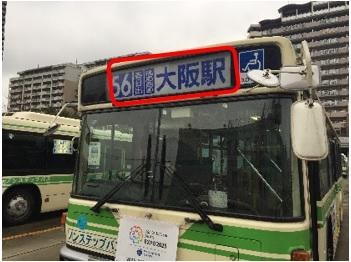destination: (104, 49, 233, 101)
